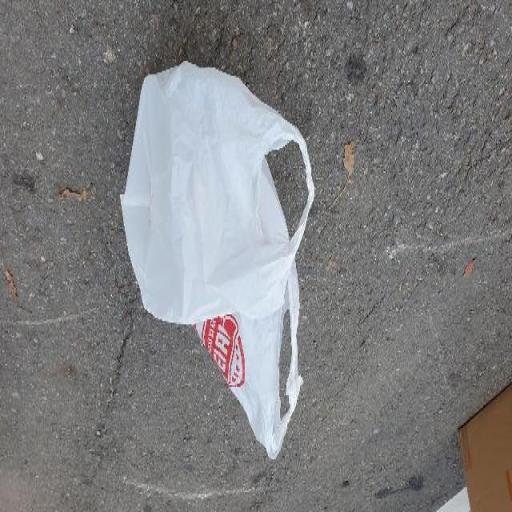plastic-bag: (119, 59, 317, 457)
